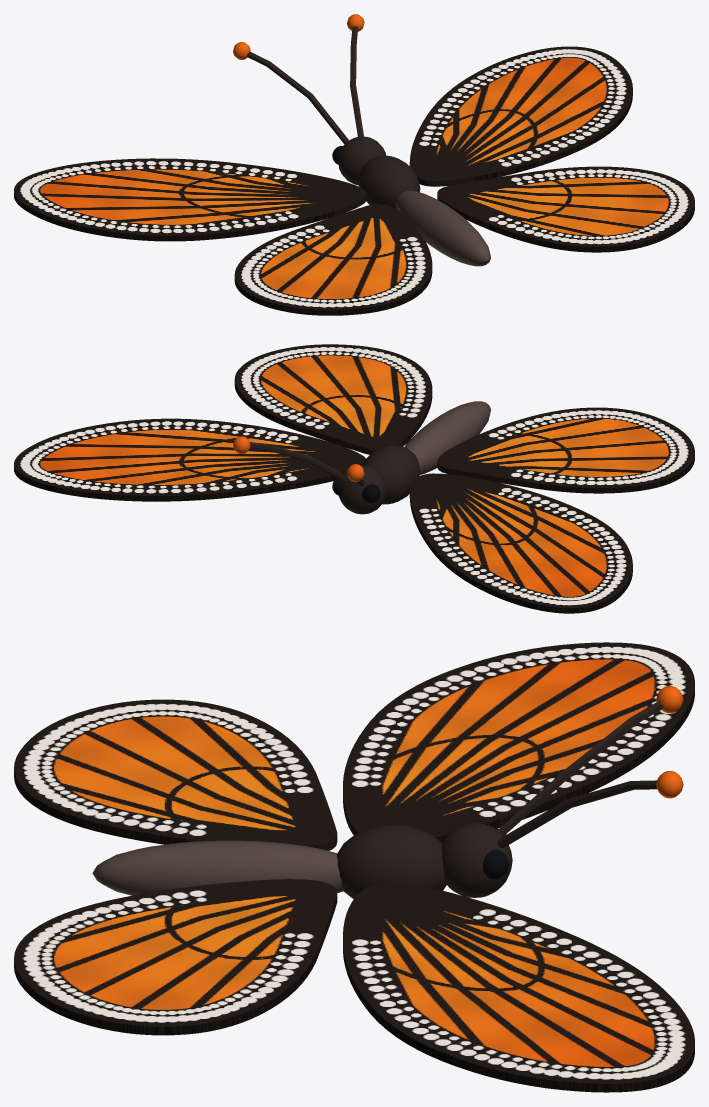
Rendered from Butterfly_Monarch.fbx.
The picture shows the model from 3 angles, top to bottom: view 1: azimuth 30°, elevation 25°; view 2: azimuth 150°, elevation 25°; view 3: azimuth 270°, elevation 25°; orthographic projection. The views are drawn at different scales.
Visible parts, largest first — view 1: WingL, WingR, Body; view 2: WingL, WingR, Body; view 3: WingR, WingL, Body.
Part boxes in pixels (box(x1,y1,x2,y2)): WingL: box(14, 158, 432, 315); WingR: box(409, 46, 694, 252); Body: box(233, 14, 490, 266); WingL: box(409, 407, 694, 613); WingR: box(14, 344, 432, 501); Body: box(233, 401, 490, 514); WingR: box(14, 879, 694, 1092); WingL: box(14, 642, 694, 850); Body: box(92, 686, 683, 899).
Bounding box in the file's own units: 0.6647 × 0.124 × 0.4333.
1 material, 1 textured.
